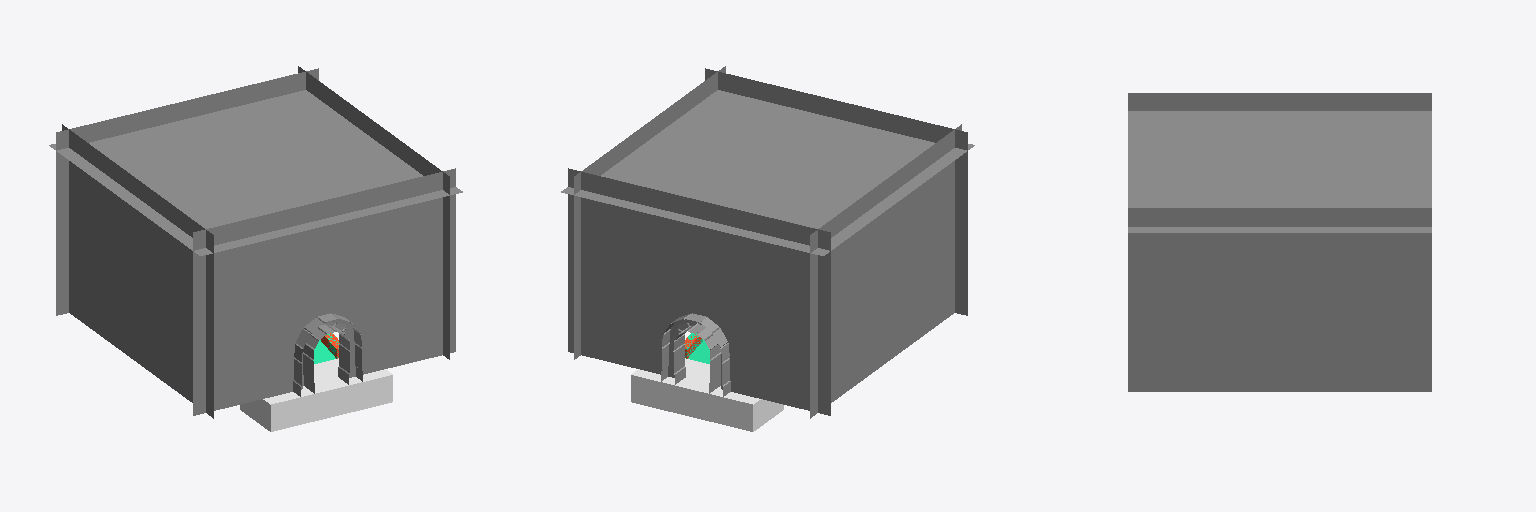
The model's file is bridgeStraight.obj.
3 renders of one model, left to right at view 1: azimuth 30°, elevation 25°; view 2: azimuth 150°, elevation 25°; view 3: azimuth 270°, elevation 25°, orthographic.
Visible parts, largest first — view 1: struct_ceiling_12, struct_wall_main_half_8, struct_wall_main_half_10, struct_wall_main_half_3, struct_wall_main_half_4, struct_door_0, struct_wall_main_half_11, block_default_15, struct_wall_main_half_7, struct_wall_main_half_6, bridge_13; view 2: struct_ceiling_12, struct_wall_main_half_8, struct_wall_main_half_11, struct_wall_main_half_5, struct_wall_main_half_6, struct_door_1, struct_wall_main_half_10, block_default_14, struct_wall_main_half_7, struct_wall_main_half_4, bridge_13; view 3: struct_wall_main_half_7, struct_ceiling_12, struct_wall_main_half_8.
Boxes of the visible parts, box(x1,y1,x2,y2) form: struct_ceiling_12: box(49, 90, 462, 255); struct_wall_main_half_8: box(62, 124, 213, 418); struct_wall_main_half_10: box(193, 168, 455, 323); struct_wall_main_half_3: box(368, 260, 455, 372); struct_wall_main_half_4: box(193, 303, 280, 415); struct_door_0: box(281, 282, 367, 396); struct_wall_main_half_11: box(56, 68, 318, 223); block_default_15: box(240, 358, 392, 431); struct_wall_main_half_7: box(298, 66, 449, 359); struct_wall_main_half_6: box(56, 221, 68, 315); bridge_13: box(313, 333, 339, 363); struct_ceiling_12: box(561, 90, 974, 255); struct_wall_main_half_8: box(810, 124, 961, 418); struct_wall_main_half_11: box(568, 168, 830, 323); struct_wall_main_half_5: box(568, 260, 655, 372); struct_wall_main_half_6: box(743, 303, 830, 415); struct_door_1: box(656, 282, 742, 396); struct_wall_main_half_10: box(705, 68, 967, 223); block_default_14: box(631, 358, 783, 431); struct_wall_main_half_7: box(574, 66, 725, 359); struct_wall_main_half_4: box(955, 221, 967, 315); bridge_13: box(684, 333, 710, 363); struct_wall_main_half_7: box(1128, 208, 1431, 391); struct_ceiling_12: box(1128, 111, 1431, 232); struct_wall_main_half_8: box(1128, 93, 1431, 110).
Size of the model in its own units: 3 by 2.3 by 3.